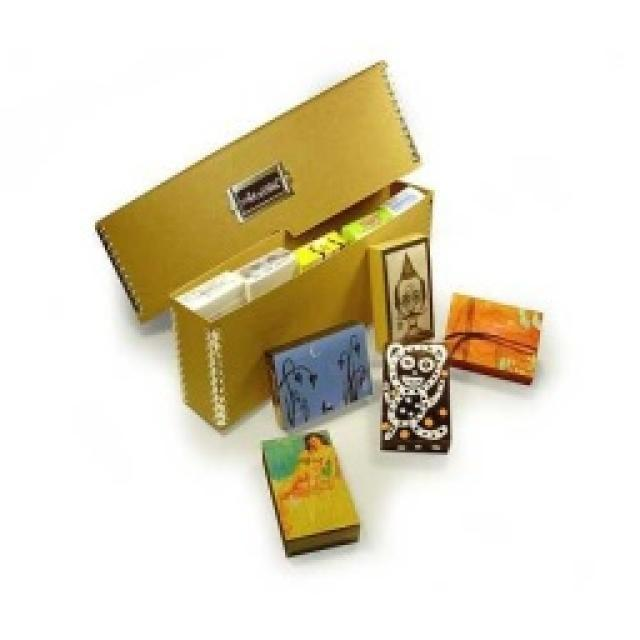box: (73, 44, 415, 394), (252, 431, 368, 572), (267, 318, 373, 429), (450, 293, 553, 391), (367, 243, 449, 357), (386, 335, 455, 449)
